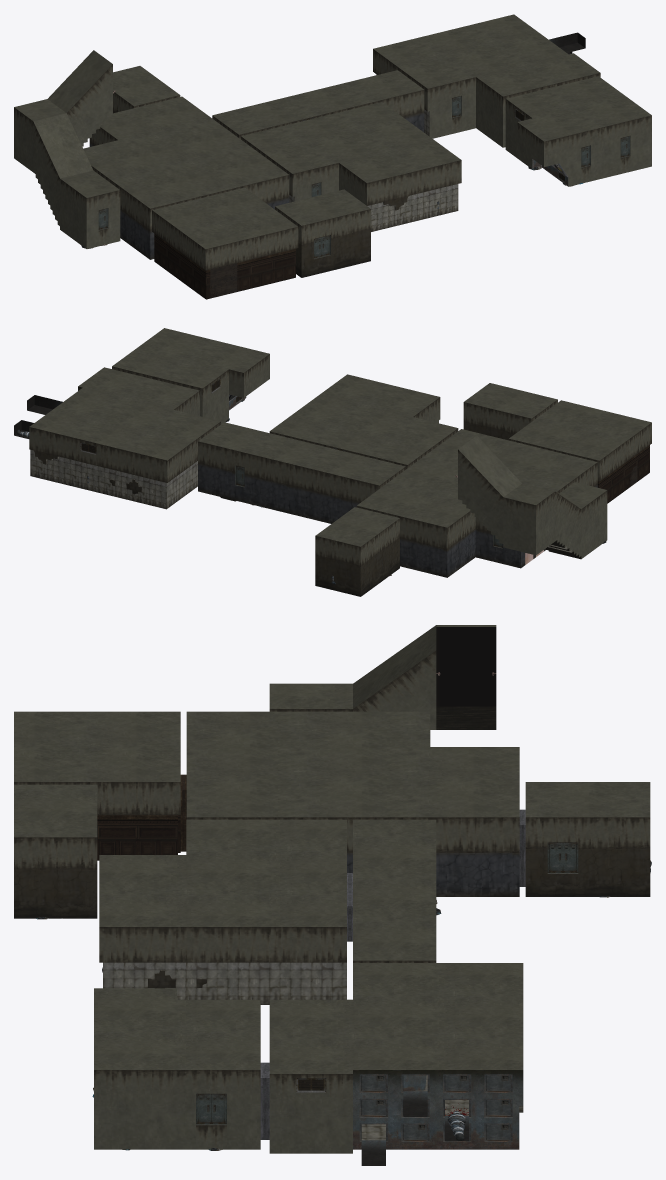
File: horror_game_map_final.fbx
The picture shows the model from 3 angles, top to bottom: view 1: azimuth 30°, elevation 25°; view 2: azimuth 150°, elevation 25°; view 3: azimuth 270°, elevation 25°; orthographic projection. The views are drawn at different scales.
Parts seen in each view (by area): view 1: room_04, room_08, room_01, stairs_01, room_02, room_05, room_03, room_06, room_07, r5_bookshelf_02; view 2: room_01, room_08, room_03, stairs_01, room_04, room_02, room_05, room_07, room_06; view 3: room_01, room_04, room_08, room_02, room_05, room_07, stairs_01, room_03, room_06.
Part boxes in pixels (x1,y1,x2,y2): room_04: (241,102,461,231); room_08: (83,96,289,259); room_01: (373,14,600,147); stairs_01: (14,50,120,248); room_02: (505,76,651,186); room_05: (152,187,298,299); room_03: (212,70,424,139); room_06: (275,189,370,277); room_07: (113,66,180,113); r5_bookshelf_02: (210,263,237,298); room_01: (14,367,220,509); room_08: (356,429,597,577); room_03: (198,422,405,523); stairs_01: (458,436,607,559); room_04: (269,374,458,469); room_02: (112,328,269,424); room_05: (508,400,651,503); room_07: (315,507,399,596); room_06: (463,383,557,440); room_01: (260,963,523,1165); room_04: (99,819,349,1004); room_08: (186,711,519,896); room_02: (94,988,260,1149); room_05: (14,711,186,860); room_07: (519,782,650,896); stairs_01: (269,625,496,729); room_03: (350,819,436,962); room_06: (14,784,97,918).
Size of the model in its own units: 2345 by 528 by 1532.
